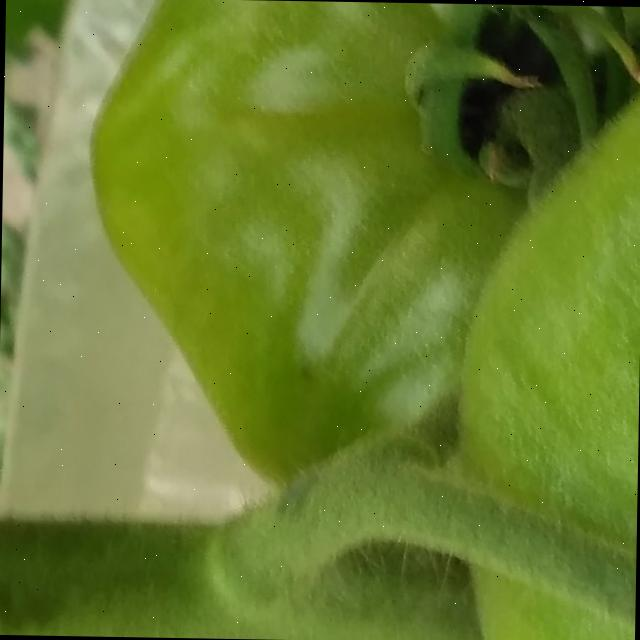tomato: (64, 0, 640, 640)
